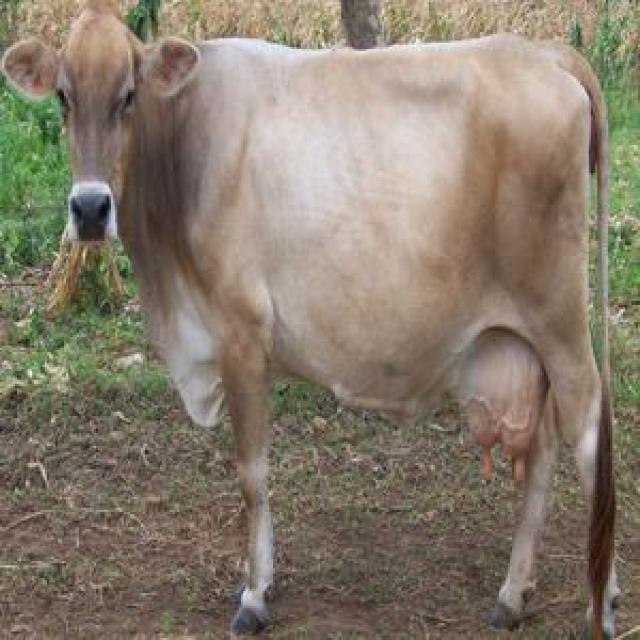not_pig: (0, 0, 621, 638)
